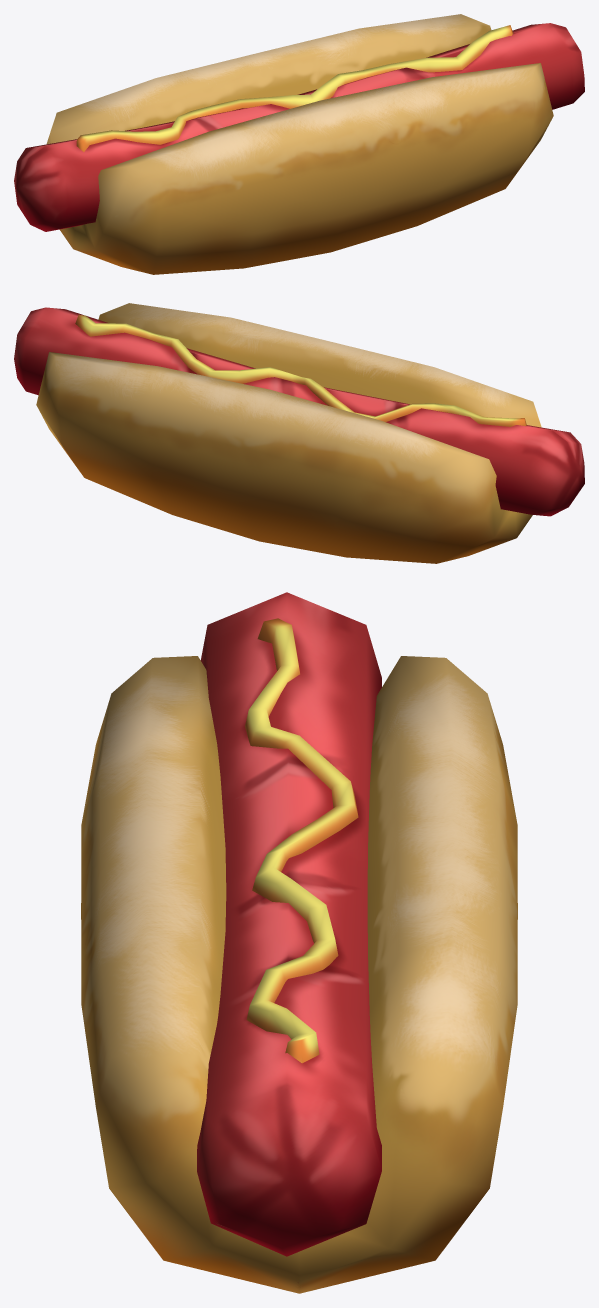
The model's file is Hotdog.fbx.
3 views of the same model, one above another, from view 1: azimuth 30°, elevation 25°; view 2: azimuth 150°, elevation 25°; view 3: azimuth 270°, elevation 25° (orthographic). The views are drawn at different scales.
Visible parts, largest first — view 1: BezierCurve.001; view 2: BezierCurve.001; view 3: BezierCurve.001.
Boxes of the visible parts, bbox=[...] form: BezierCurve.001: bbox=[14, 14, 584, 274]; BezierCurve.001: bbox=[14, 303, 584, 563]; BezierCurve.001: bbox=[81, 592, 517, 1293].
Bounding box in the file's own units: 557 × 162 × 187.
